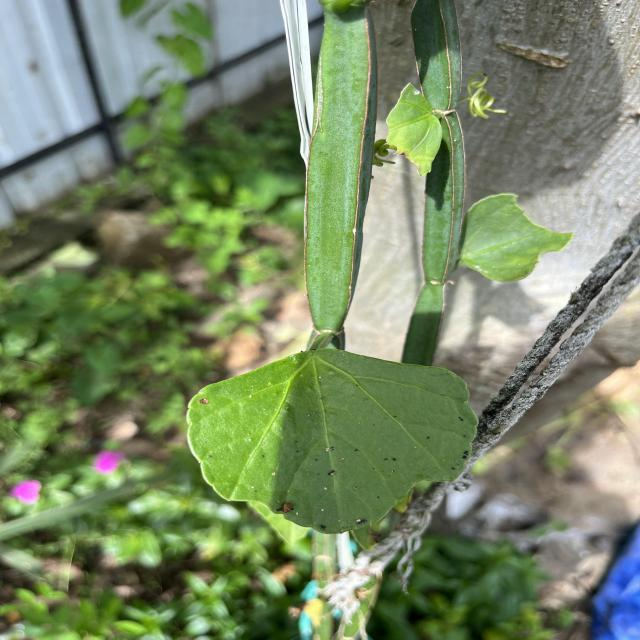Cissus quadrangularis: (183, 346, 482, 536)
